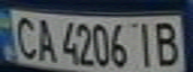0: (90, 20, 112, 69)
2: (72, 19, 93, 66)
4: (54, 18, 78, 65)
6: (109, 20, 133, 70)
A: (30, 16, 57, 63)
B: (151, 18, 187, 69)
C: (9, 12, 39, 61)
I: (130, 19, 160, 69)
